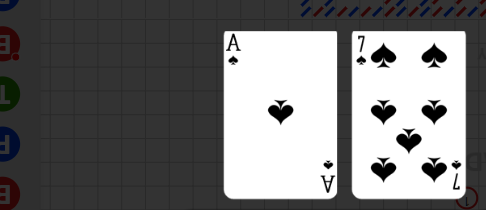AS: (226, 33, 244, 69), (320, 158, 336, 195)
